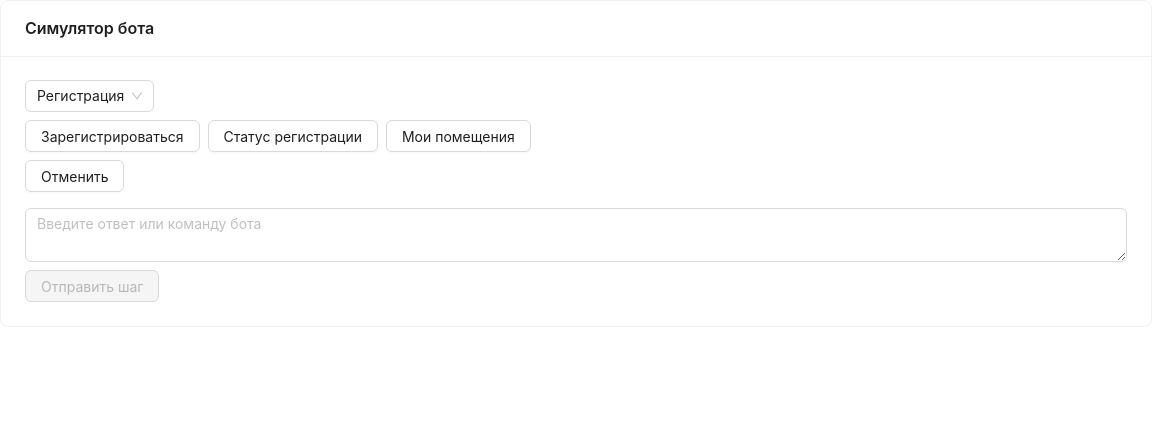
активная персона исполняет общий сценарий registration и видит ответ
Click the button "Зарегистрироваться" at [112, 136], box left=25, top=120, right=200, bottom=152
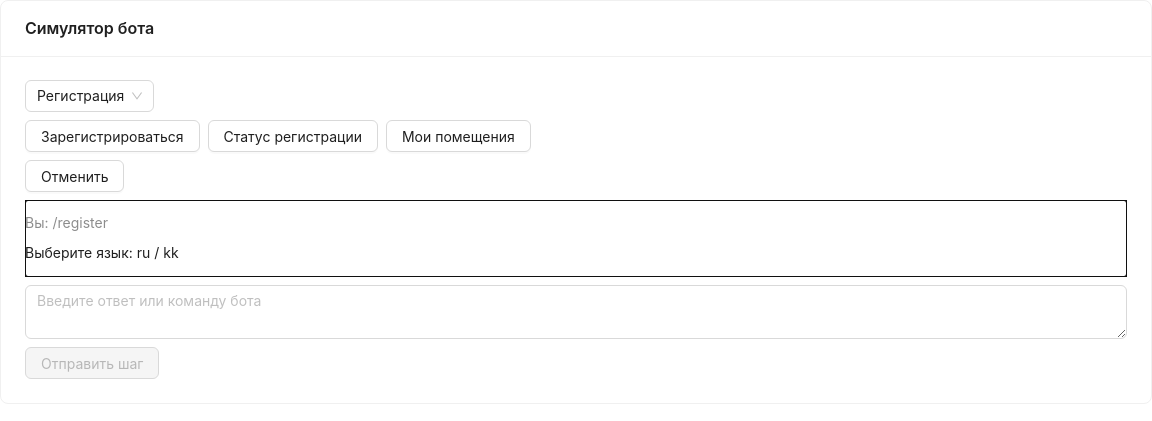
Expected: the text "Выберите язык: ru / kk" is shown, left=25, top=244, right=179, bottom=261
